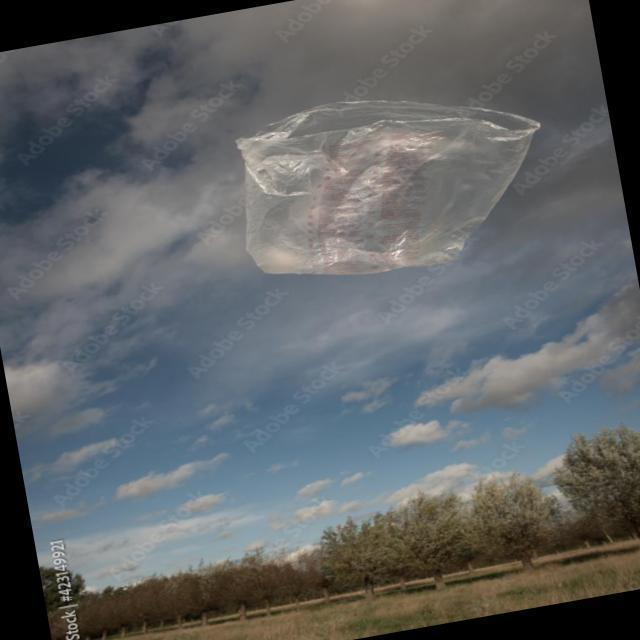Plastic_Bag: (208, 59, 570, 316)
